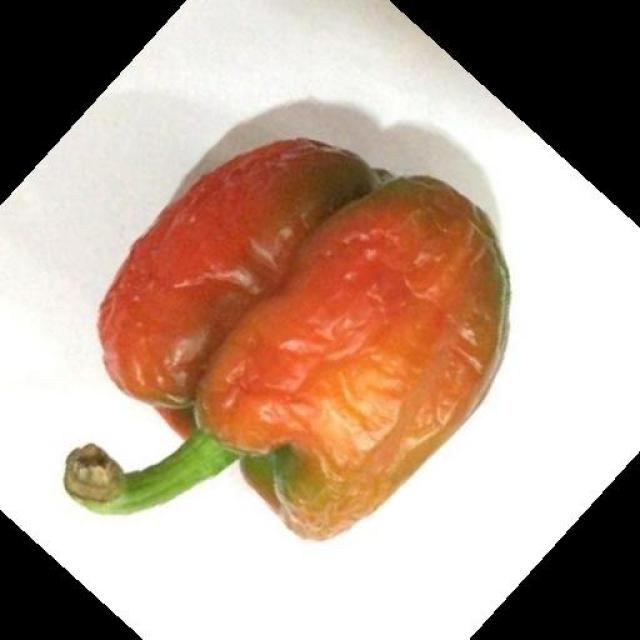Stale_Capsicum: (78, 110, 517, 526)
